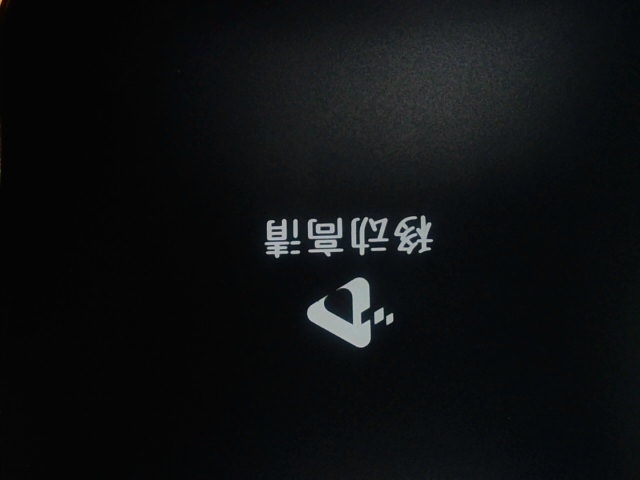AO_MobileHD: (246, 203, 446, 362)
